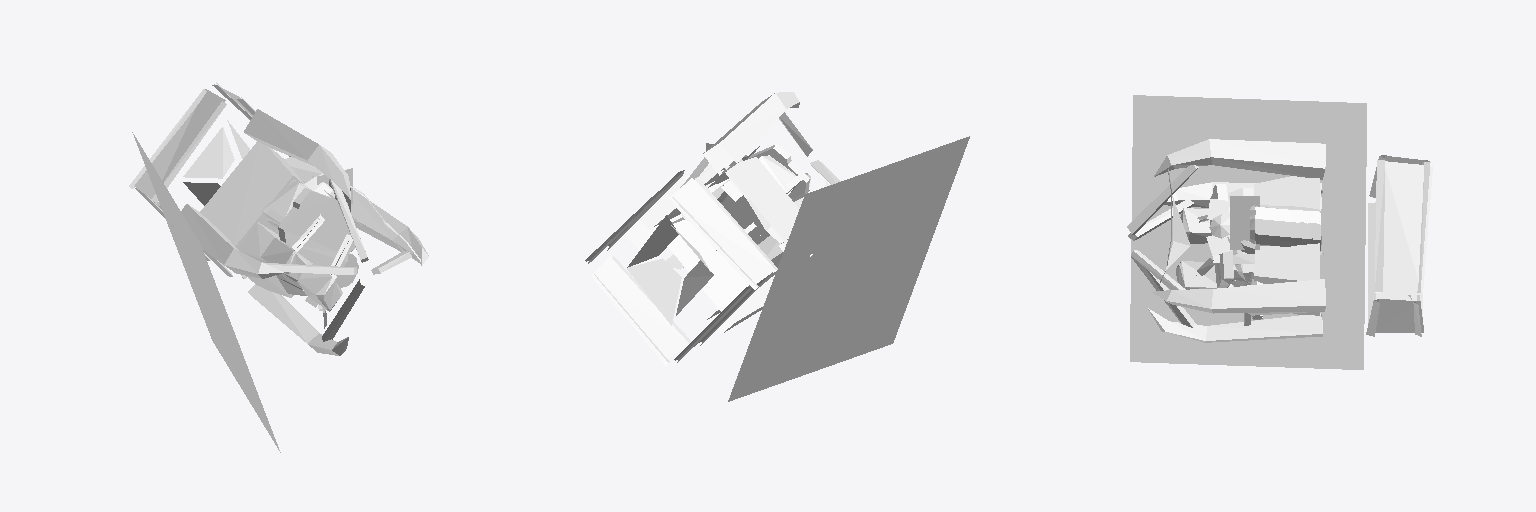
The model's file is WarMill.OBJ.
The picture shows the model from 3 angles: view 1: azimuth 30°, elevation 25°; view 2: azimuth 150°, elevation 25°; view 3: azimuth 270°, elevation 25°; orthographic projection.
Parts seen in each view (by area): view 1: Converted object 10(m0), Converted object 6(m0), Converted object 5(m0), Converted object 12(m0), Converted object 7(m0); view 2: Converted object 5(m0), Converted object 10(m0), Converted object 12(m0), Converted object 6(m0), Converted object 3(m0), Converted object 11(m0), Converted object 4(m0); view 3: Converted object 5(m0), Converted object 10(m0), Converted object 6(m0), Converted object 12(m0), Converted object 11(m0), Converted object 7(m0), Converted object 9(m0).
Part boxes in pixels (x1,y1,x2,y2): Converted object 10(m0): (129, 82, 428, 355); Converted object 6(m0): (200, 142, 361, 328); Converted object 5(m0): (132, 132, 280, 452); Converted object 12(m0): (183, 120, 411, 341); Converted object 7(m0): (261, 203, 349, 310); Converted object 5(m0): (728, 136, 969, 401); Converted object 10(m0): (585, 92, 812, 365); Converted object 12(m0): (627, 112, 840, 325); Converted object 6(m0): (680, 144, 829, 276); Converted object 3(m0): (672, 172, 785, 305); Converted object 11(m0): (653, 157, 783, 311); Converted object 4(m0): (666, 180, 782, 269); Converted object 5(m0): (1130, 95, 1366, 369); Converted object 10(m0): (1148, 139, 1432, 342); Converted object 6(m0): (1176, 176, 1319, 315); Converted object 12(m0): (1127, 165, 1411, 327); Converted object 11(m0): (1256, 206, 1320, 250); Converted object 7(m0): (1182, 208, 1229, 289); Converted object 9(m0): (1230, 196, 1259, 249).
Bounding box in the file's own units: 530 × 512 × 545.